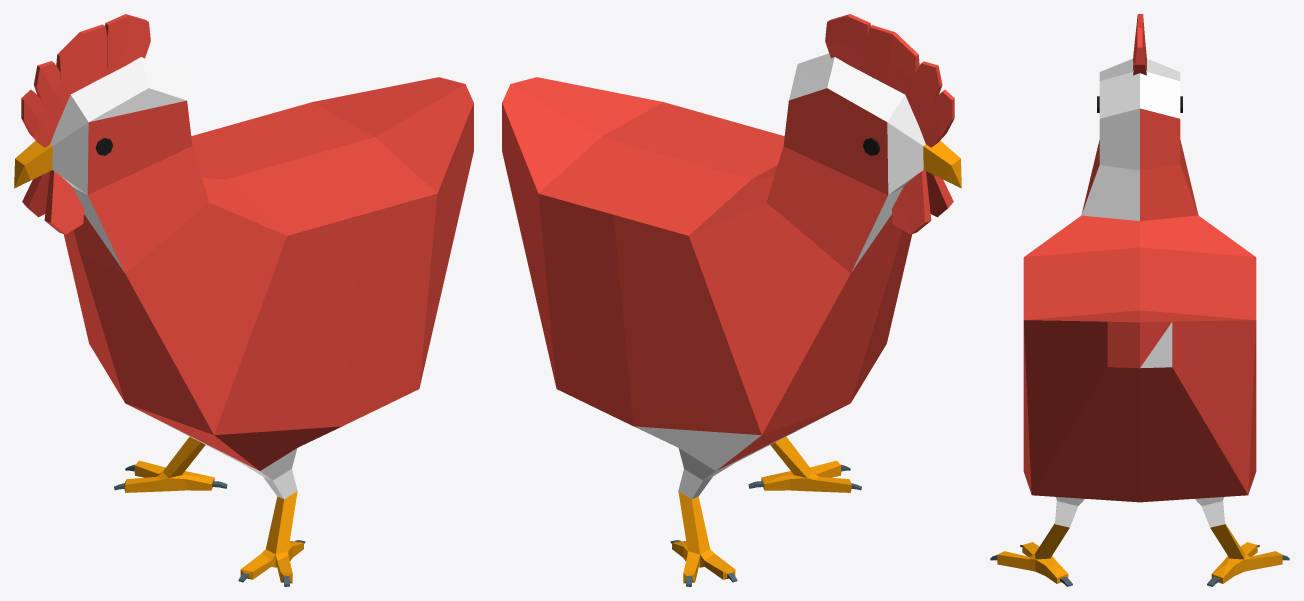
File: red.gltf
3 views of the same model, side by side, from view 1: azimuth 30°, elevation 25°; view 2: azimuth 150°, elevation 25°; view 3: azimuth 270°, elevation 25° (orthographic). The views are drawn at different scales.
Visible parts, largest first — view 1: node-0; view 2: node-0; view 3: node-0.
Part boxes in pixels (left/top/right/bottom): node-0: left=14, top=14, right=473, bottom=586; node-0: left=502, top=14, right=961, bottom=586; node-0: left=990, top=14, right=1289, bottom=586.
Bounding box in the file's own units: 167 × 189 × 103.
